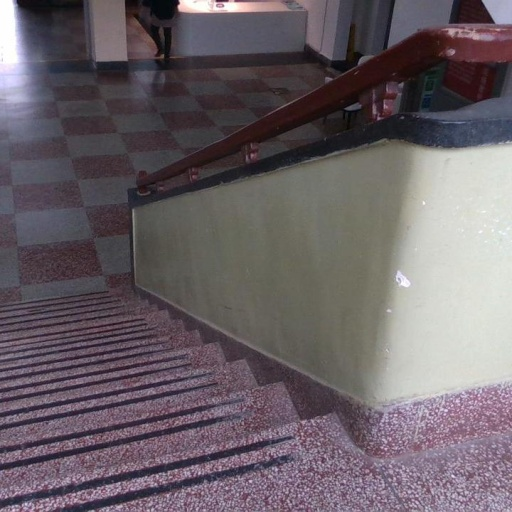Stairs: (0, 287, 512, 512)
